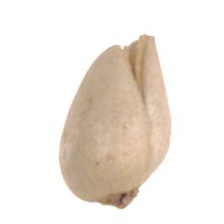L1: (114, 33, 154, 93), (95, 188, 142, 207)
L2: (58, 34, 171, 208)
